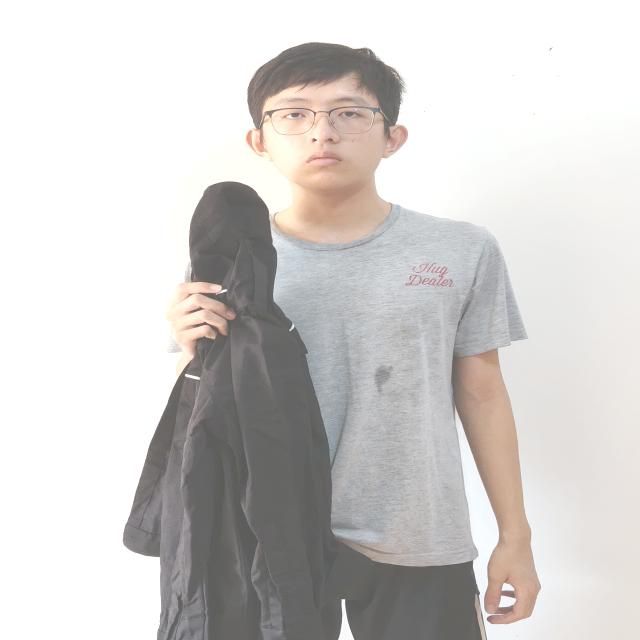person_without_labcoat: (124, 43, 539, 640)
